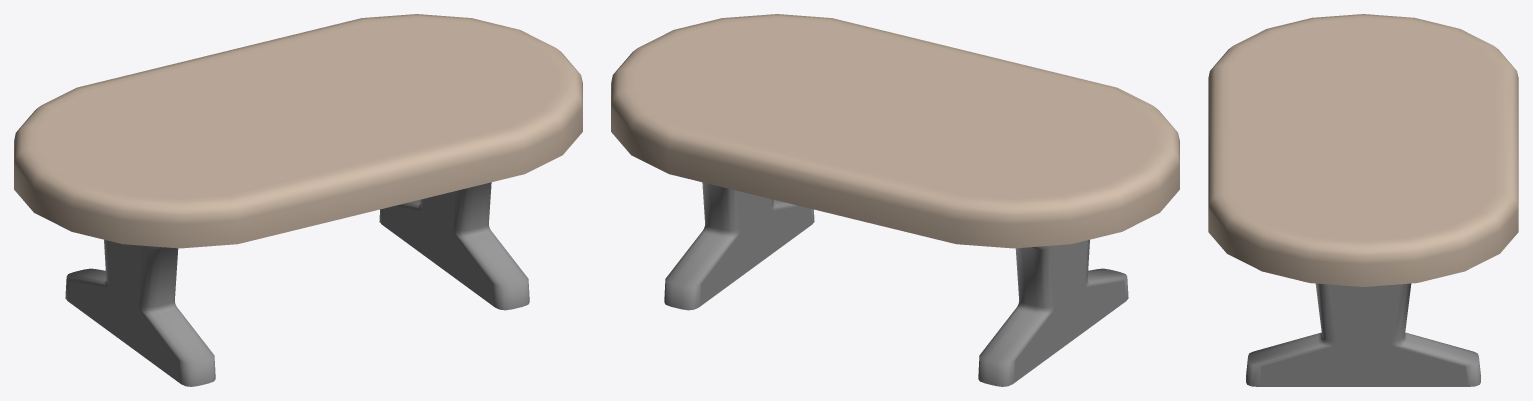
File: Table_2.FBX
3 views of the same model, side by side, from view 1: azimuth 30°, elevation 25°; view 2: azimuth 150°, elevation 25°; view 3: azimuth 270°, elevation 25° (orthographic). The views are drawn at different scales.
Visible parts, largest first — view 1: Table_2; view 2: Table_2; view 3: Table_2.
Part boxes in pixels (<box>): Table_2: <box>14,14,582,386</box>; Table_2: <box>611,14,1179,386</box>; Table_2: <box>1208,14,1518,386</box>.
Bounding box in the file's own units: 22.06 × 7.61 × 12.01.
